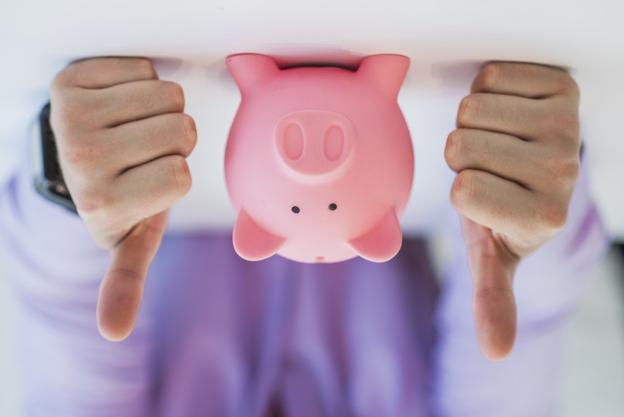thumbsdown: (49, 55, 197, 342), (444, 62, 583, 362)
